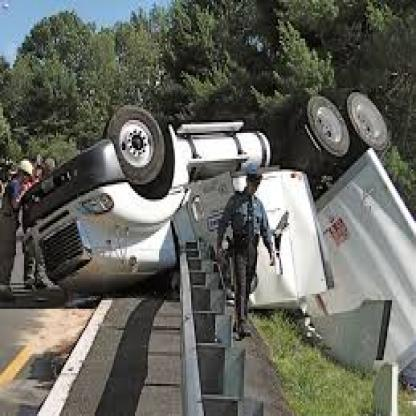accident: (10, 121, 416, 383)
